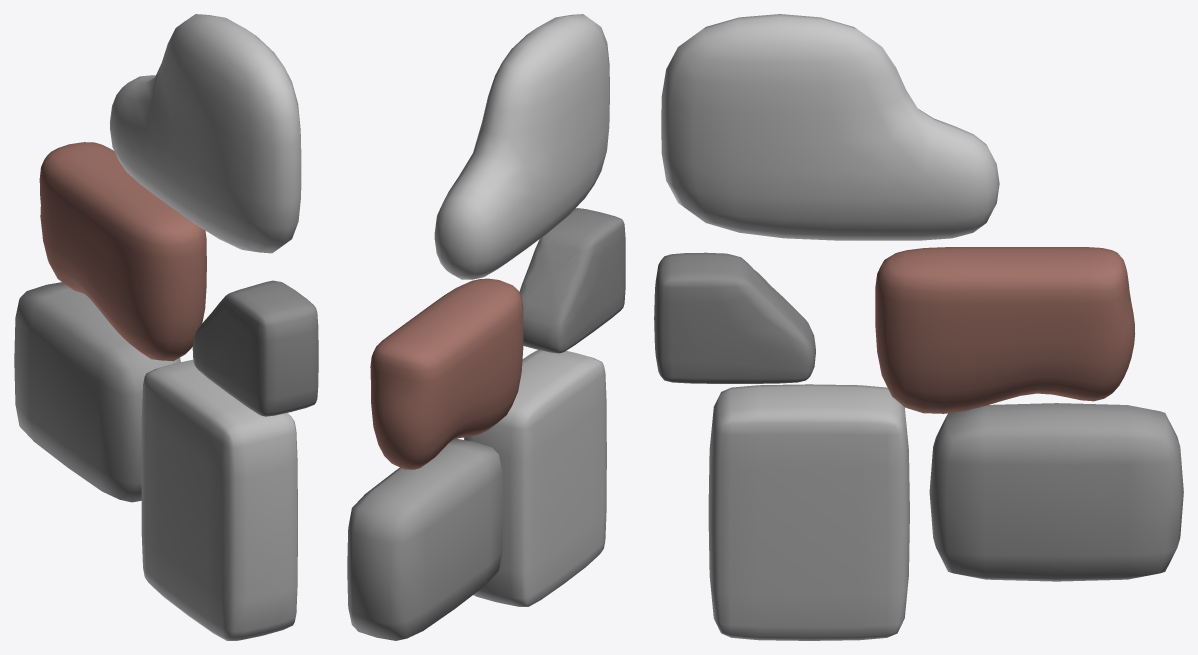
File: Wall_Deco_01.fbx
3 views of the same model, side by side, from view 1: azimuth 30°, elevation 25°; view 2: azimuth 150°, elevation 25°; view 3: azimuth 270°, elevation 25° (orthographic). The views are drawn at different scales.
Parts seen in each view (by area): view 1: Cube.284; view 2: Cube.284; view 3: Cube.284.
Part boxes in pixels (bbox=[...]): Cube.284: bbox=[14, 14, 318, 640]; Cube.284: bbox=[347, 14, 625, 640]; Cube.284: bbox=[654, 14, 1183, 640].
Bounding box in the file's own units: 11.46 × 86.05 × 67.45.
